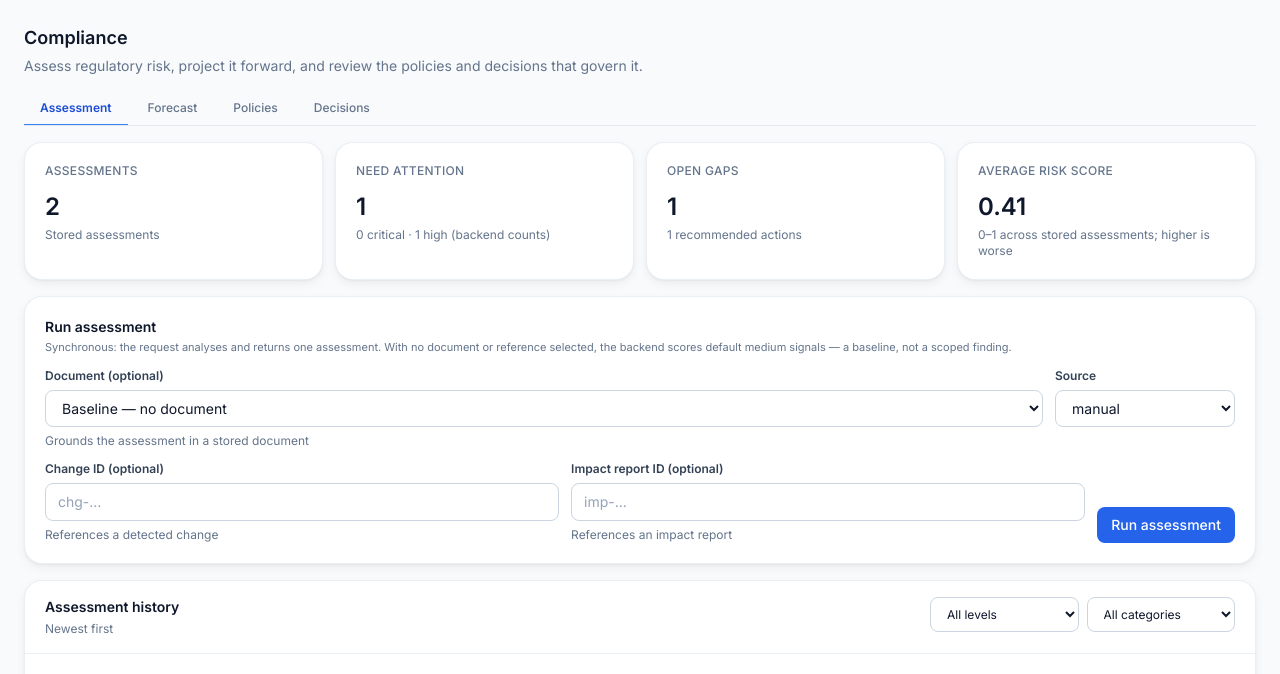
Scenario: assessment › 6. pending state is honest blocking text without percentages
What coordinates should you click on to do the following:
click the button "Run assessment"
I would click on:
 (1166, 524)
Its box is [1097,506,1235,542].
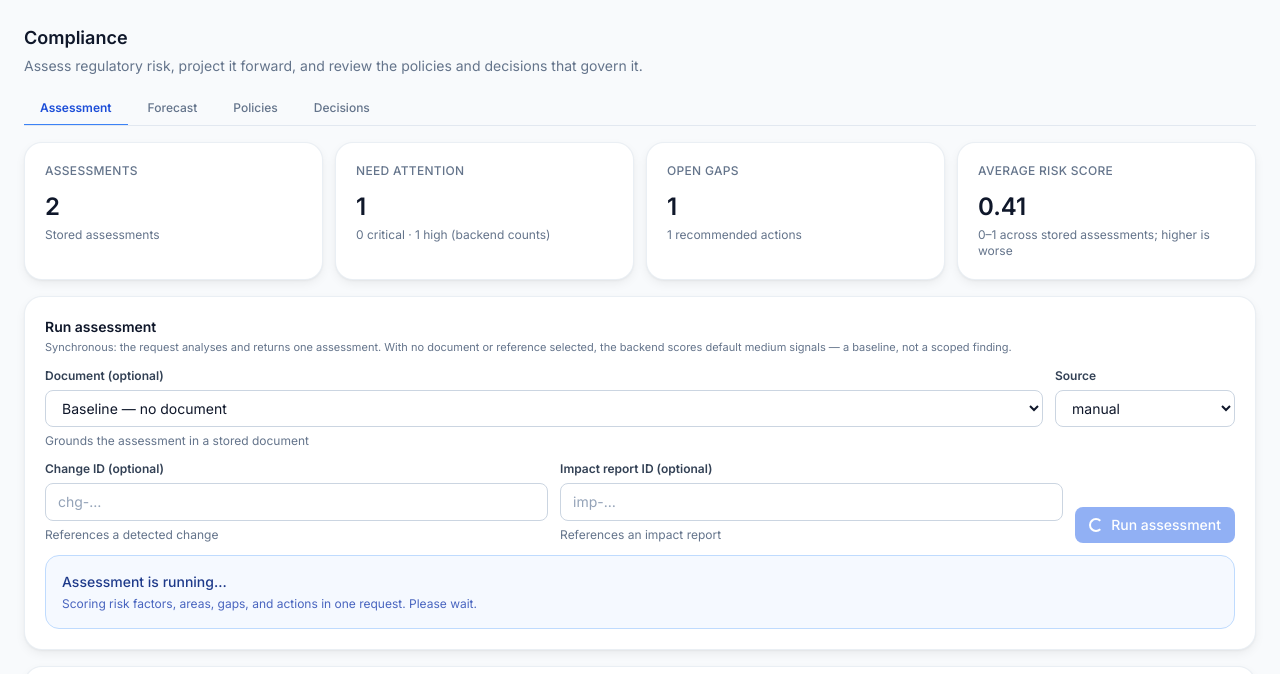
expect the text "Assessment is running…" is shown: met, box [62,572,227,590]
